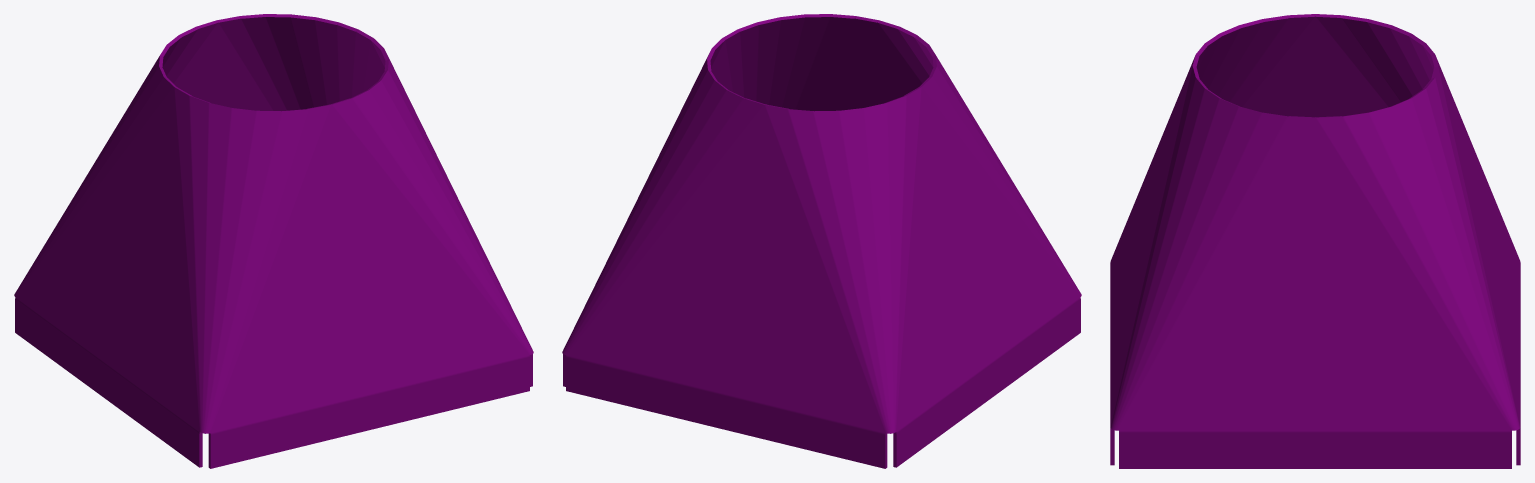
3 views of the same model, side by side, from view 1: azimuth 30°, elevation 25°; view 2: azimuth 150°, elevation 25°; view 3: azimuth 270°, elevation 25° (orthographic). The views are drawn at different scales.
Parts seen in each view (by area): view 1: Sólido1; view 2: Sólido1; view 3: Sólido1.
Boxes of the visible parts, <box> form: Sólido1: <box>14,14,533,468</box>; Sólido1: <box>562,14,1081,468</box>; Sólido1: <box>1110,14,1520,468</box>.
Size of the model in its own units: 0.2003 by 0.1705 by 0.2003.
